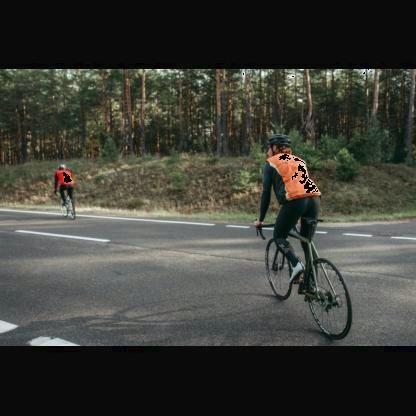Bicycle: (242, 209, 369, 347), (50, 186, 83, 226)
